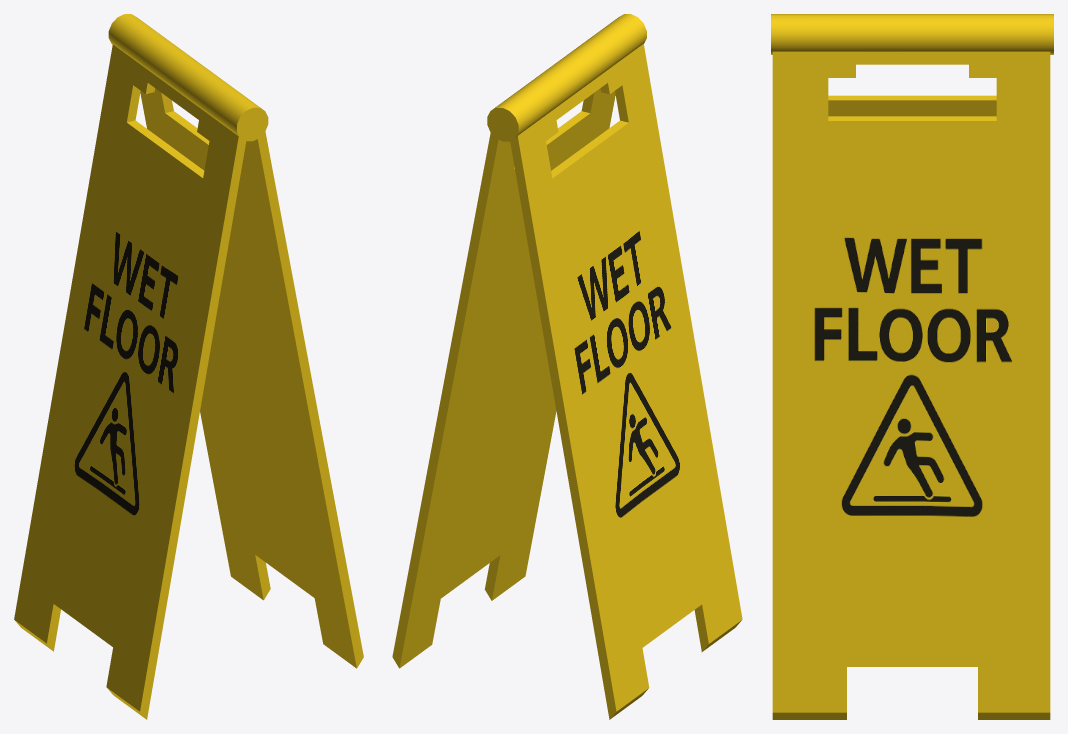
File: wet_floor.fbx
3 renders of one model, left to right at view 1: azimuth 30°, elevation 25°; view 2: azimuth 150°, elevation 25°; view 3: azimuth 270°, elevation 25°, orthographic. The views are drawn at different scales.
Visible parts, largest first — view 1: WetFloor; view 2: WetFloor; view 3: WetFloor.
Boxes of the visible parts, box(x1,y1,x2,y2) form: WetFloor: box(14, 14, 363, 719); WetFloor: box(392, 14, 742, 719); WetFloor: box(771, 14, 1053, 719).
Size of the model in its own units: 30.24 by 30.51 by 76.43.
Materials: 1 (1 with a texture image).
